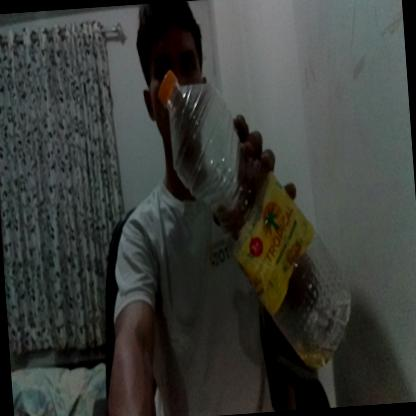plastic_bottles: (152, 59, 358, 387)
